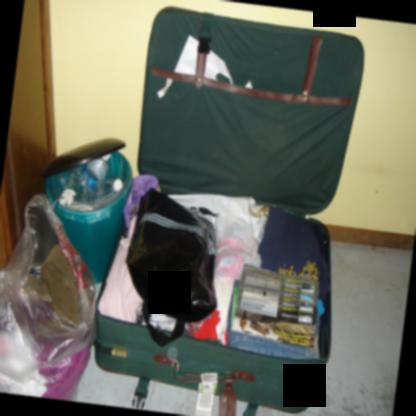handbag: (125, 185, 216, 347)
suitcase: (92, 8, 363, 416)
